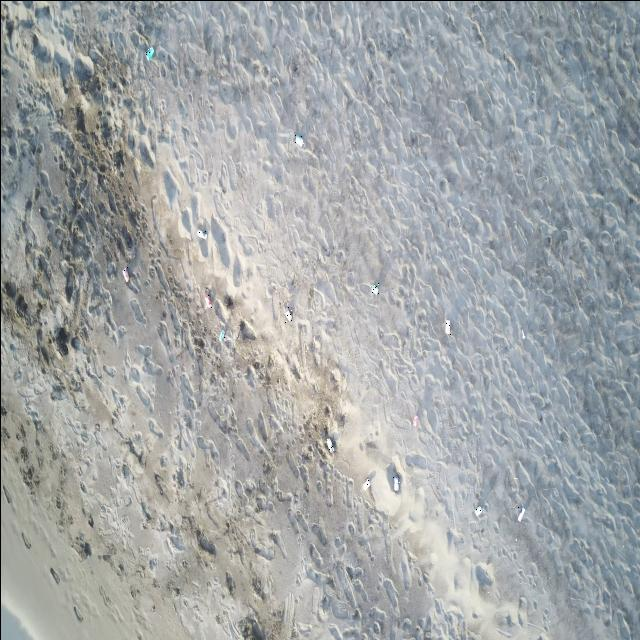Garbage: (204, 288, 212, 307), (392, 473, 399, 492), (293, 132, 303, 145), (145, 47, 154, 60), (473, 504, 483, 515), (196, 228, 206, 239), (121, 266, 128, 281), (517, 506, 524, 520), (284, 306, 291, 320), (371, 281, 379, 293), (327, 436, 333, 452), (362, 477, 369, 489), (412, 415, 418, 427), (444, 320, 448, 335), (218, 328, 223, 340), (520, 329, 524, 339)
